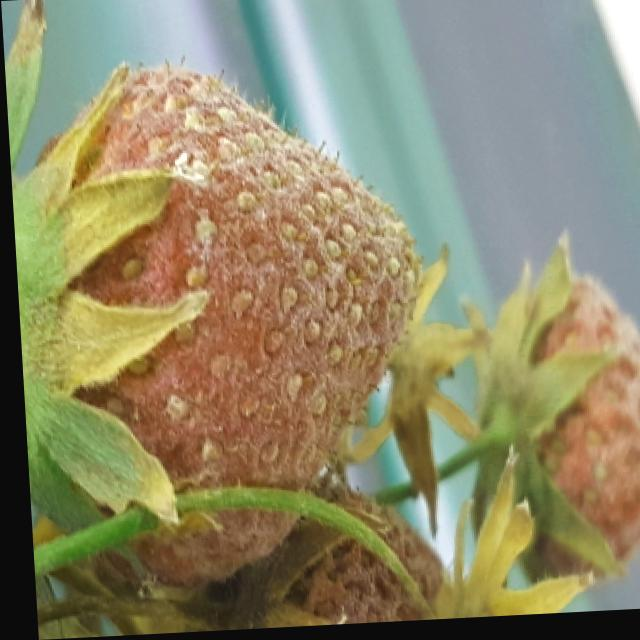Powdery Mildew Fruit: (9, 66, 418, 591), (208, 487, 450, 633)
